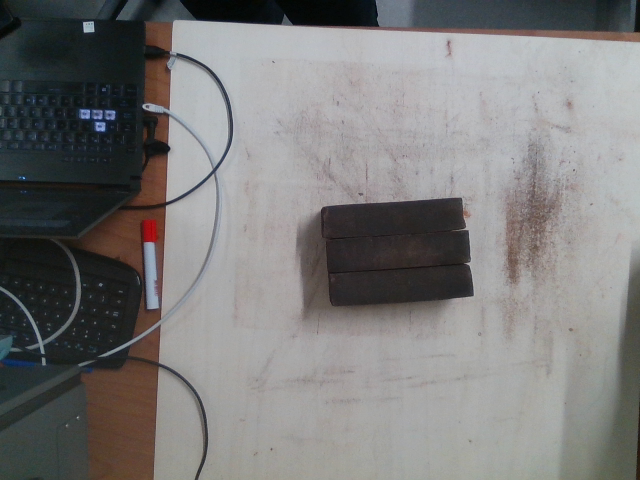brick-side: (327, 230, 468, 274), (331, 262, 472, 306), (324, 196, 465, 240)
